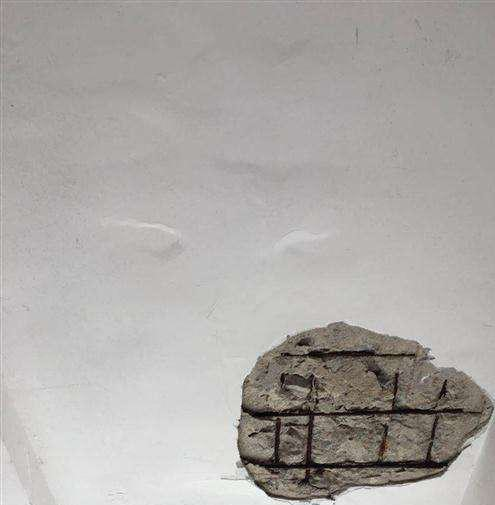Exposed reinforcement: (240, 404, 464, 419), (240, 455, 450, 469), (377, 372, 399, 463), (425, 378, 448, 463), (281, 348, 416, 357), (304, 410, 315, 484), (273, 417, 282, 464)
Spalling: (233, 321, 495, 502)
